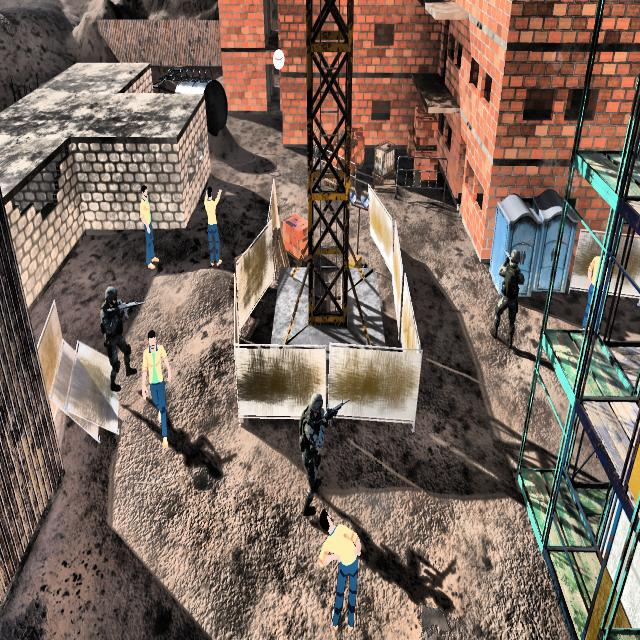bad: (283, 383, 339, 519), (91, 282, 141, 392), (494, 227, 522, 352)
good: (309, 498, 369, 630), (140, 327, 174, 461), (197, 178, 227, 274), (134, 176, 164, 270), (585, 246, 610, 337)
